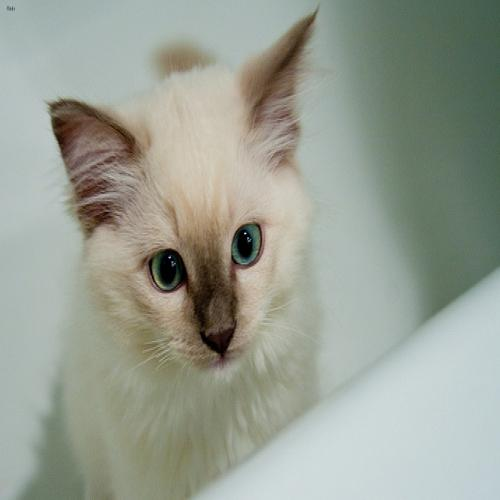ragdoll: (49, 1, 334, 391)
